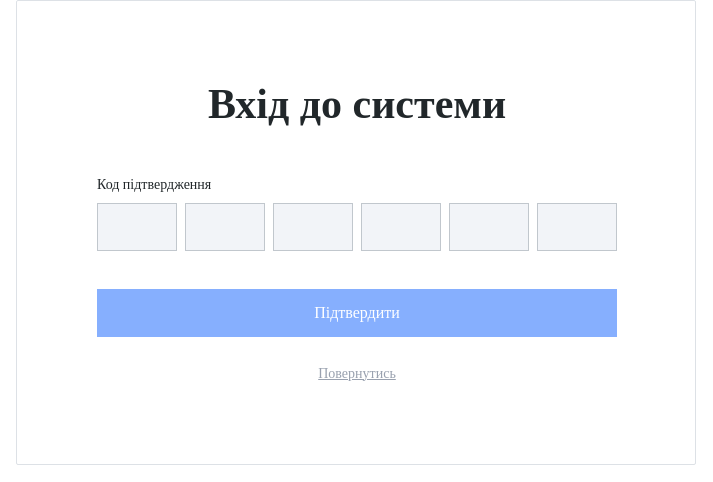
Scenario: LoginForm › Two factor authentication › should enable confirm button once all six digits are entered
The width and height of the screenshot is (713, 482).
In the field named "Цифра 1": (137, 227) [97,203,177,251], type "1"
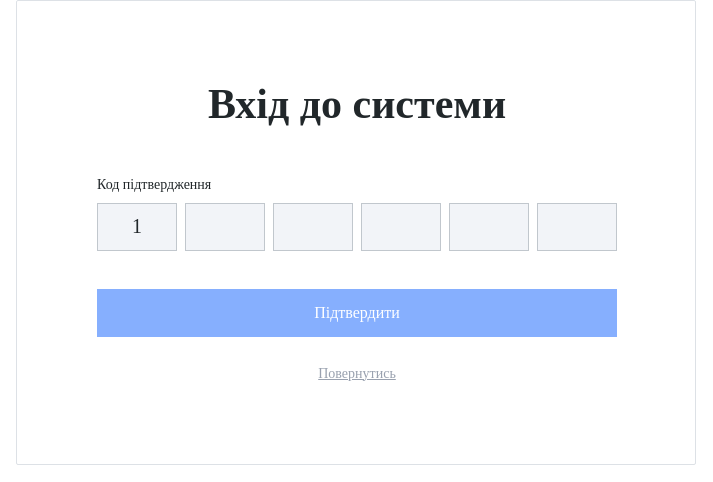
In the field named "Цифра 2": (225, 227) [185,203,265,251], type "1"
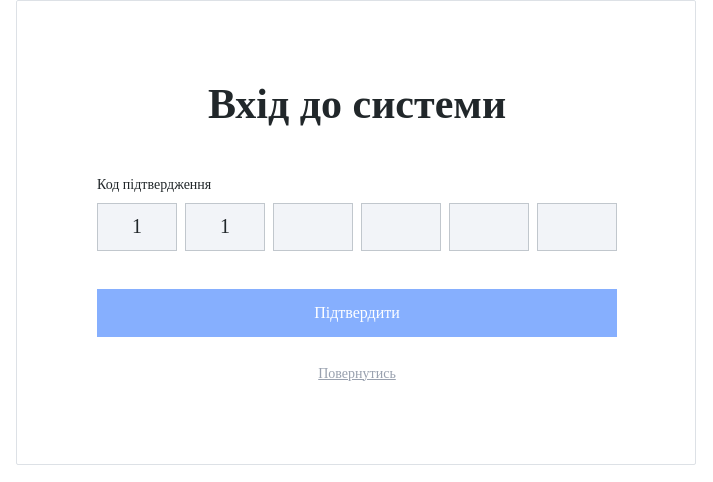
In the field named "Цифра 3": (313, 227) [273,203,353,251], type "1"
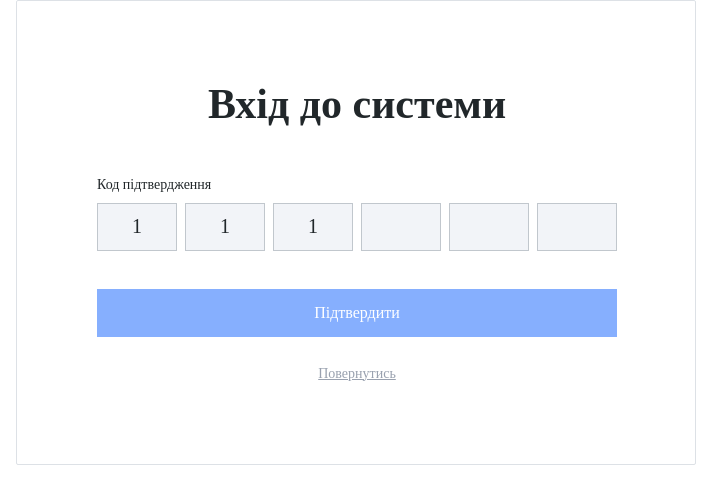
In the field named "Цифра 4": (401, 227) [361,203,441,251], type "1"
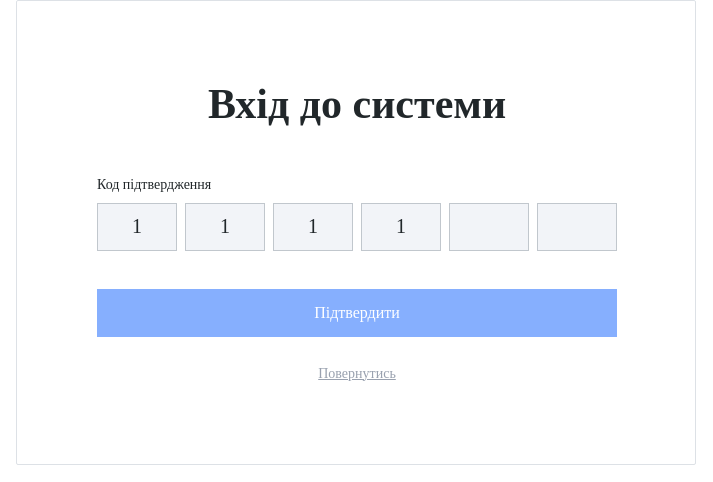
In the field named "Цифра 5": (489, 227) [449,203,529,251], type "1"
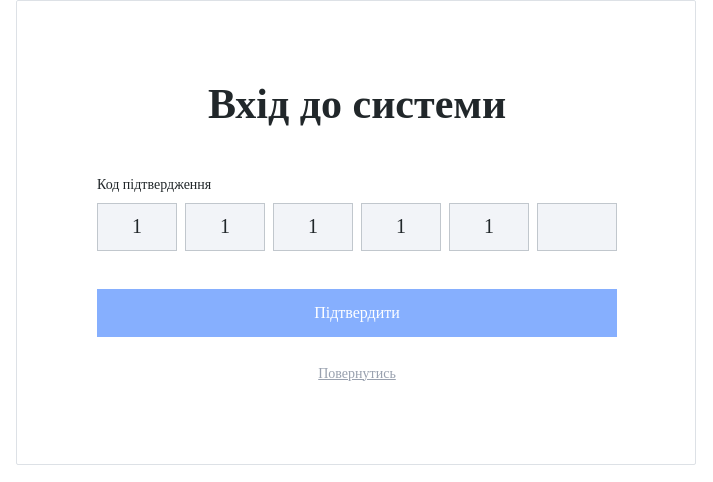
In the field named "Цифра 6": (577, 227) [537,203,617,251], type "1"
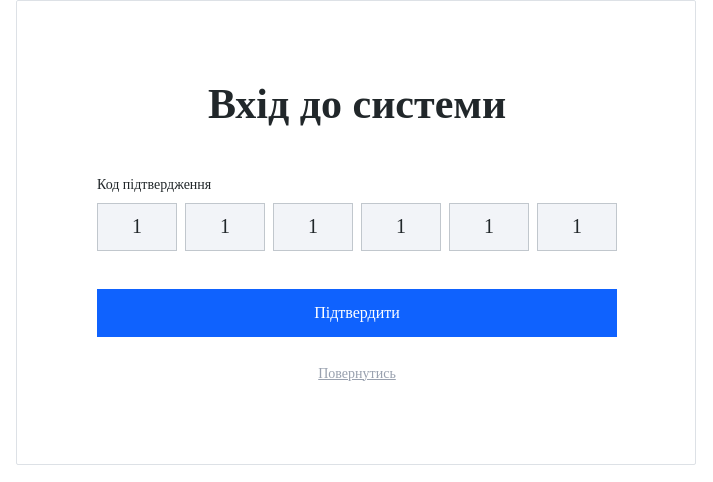
Result: the button "Підтвердити" is enabled at [97,289,617,337]
